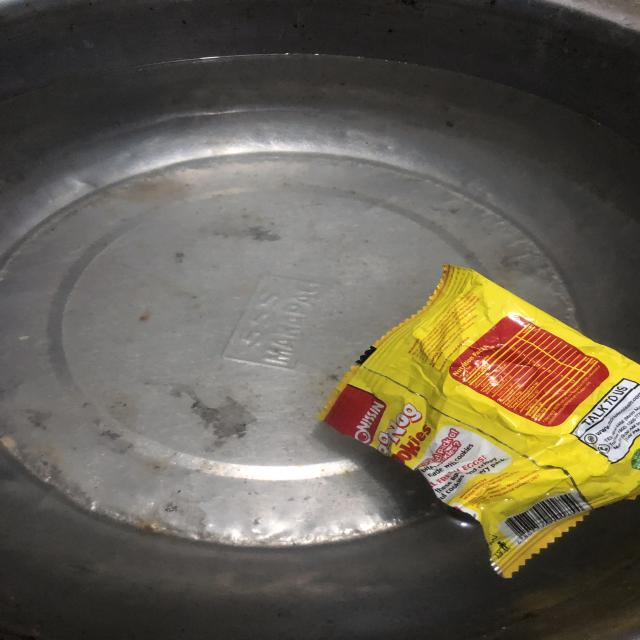Plastic Wrapper: (294, 233, 640, 592)
